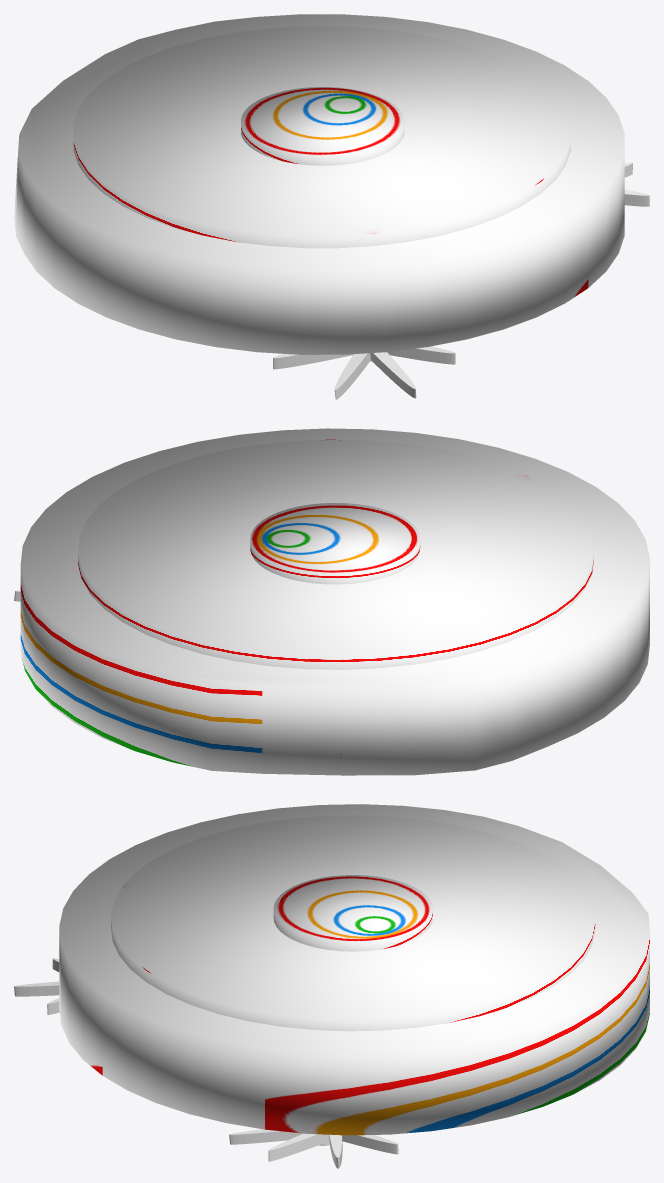
The model's file is roombajderobot.glb.
The picture shows the model from 3 angles, top to bottom: view 1: azimuth 30°, elevation 25°; view 2: azimuth 150°, elevation 25°; view 3: azimuth 270°, elevation 25°; orthographic projection. The views are drawn at different scales.
Visible parts, largest first — view 1: Cylinder, Cylinder.002; view 2: Cylinder; view 3: Cylinder, Cylinder.001, Cylinder.002.
Boxes of the visible parts, x1,y1,x2,y2 form: Cylinder: [14, 14, 624, 354]; Cylinder.002: [273, 346, 455, 399]; Cylinder: [20, 428, 649, 775]; Cylinder: [59, 804, 649, 1135]; Cylinder.001: [229, 1129, 398, 1168]; Cylinder.002: [14, 958, 59, 1014].
Size of the model in its own units: 2.15 by 0.52 by 2.15.
5 materials, 1 textured.
